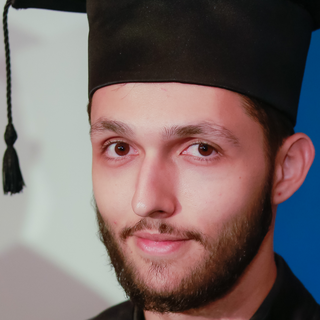eye: (88, 134, 145, 165), (172, 135, 228, 165)
